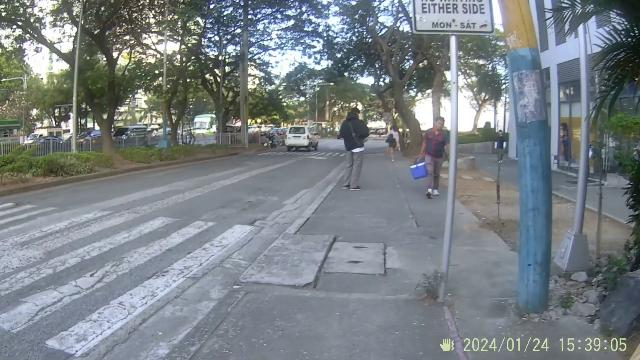street_sign: (421, 5, 491, 300)
utility_post: (499, 2, 563, 316)
